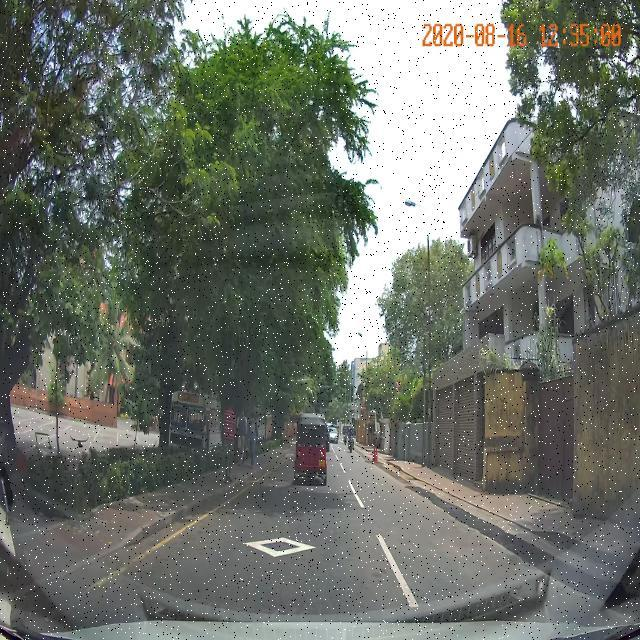diamond: (155, 523, 403, 579)
